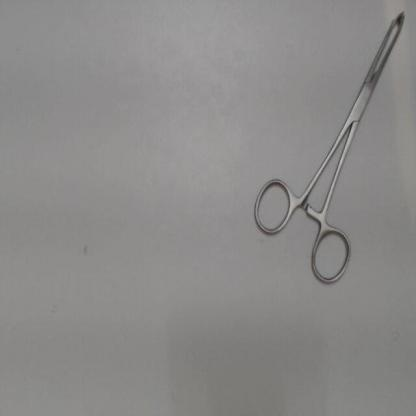Allis Tissue Forceps: (243, 3, 410, 294)
